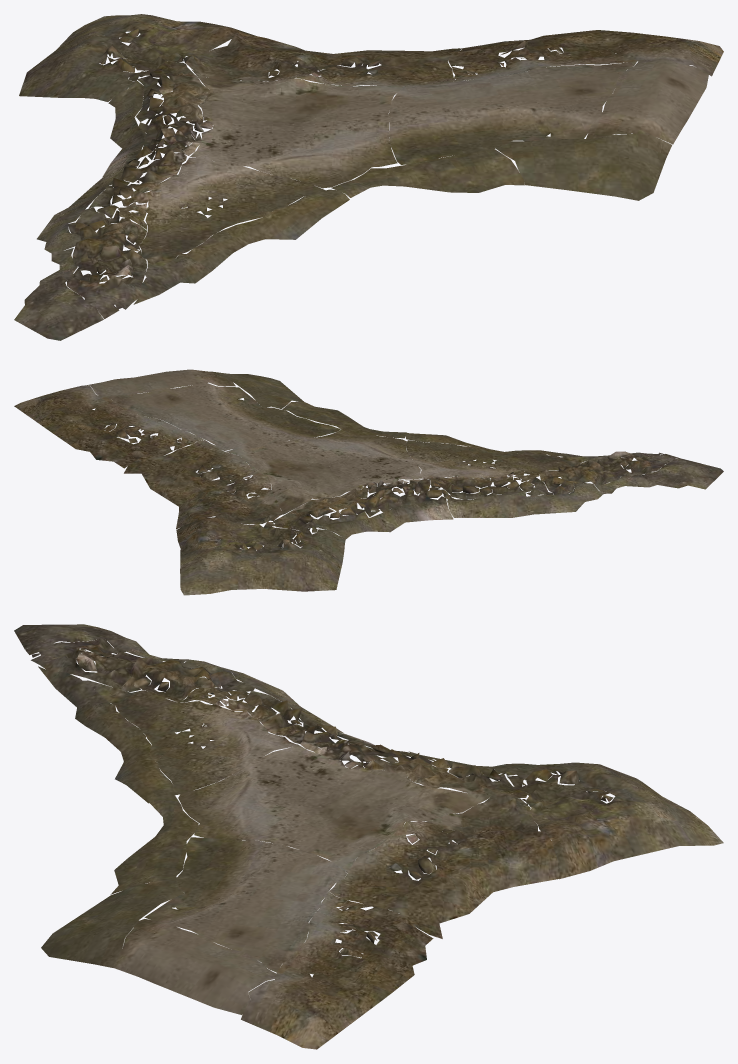
The model's file is rocks_coast.glb.
3 views of the same model, one above another, from view 1: azimuth 30°, elevation 25°; view 2: azimuth 150°, elevation 25°; view 3: azimuth 270°, elevation 25° (orthographic). The views are drawn at different scales.
Visible parts, largest first — view 1: rocks_coast; view 2: rocks_coast; view 3: rocks_coast.
Part boxes in pixels (x1,y1,x2,y2): rocks_coast: (14,14,723,340); rocks_coast: (14,369,723,595); rocks_coast: (14,624,723,1049).
Size of the model in its own units: 21.99 by 1.2 by 15.77.
Materials: 1 (1 with a texture image).
